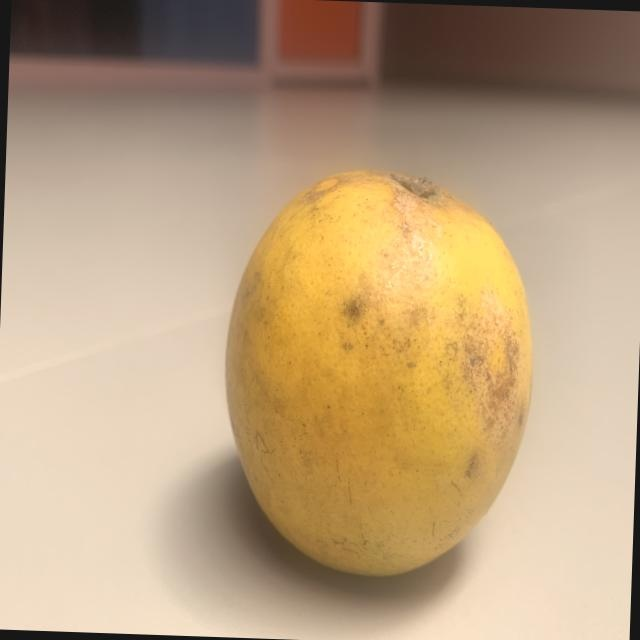agrume: (202, 144, 551, 592)
